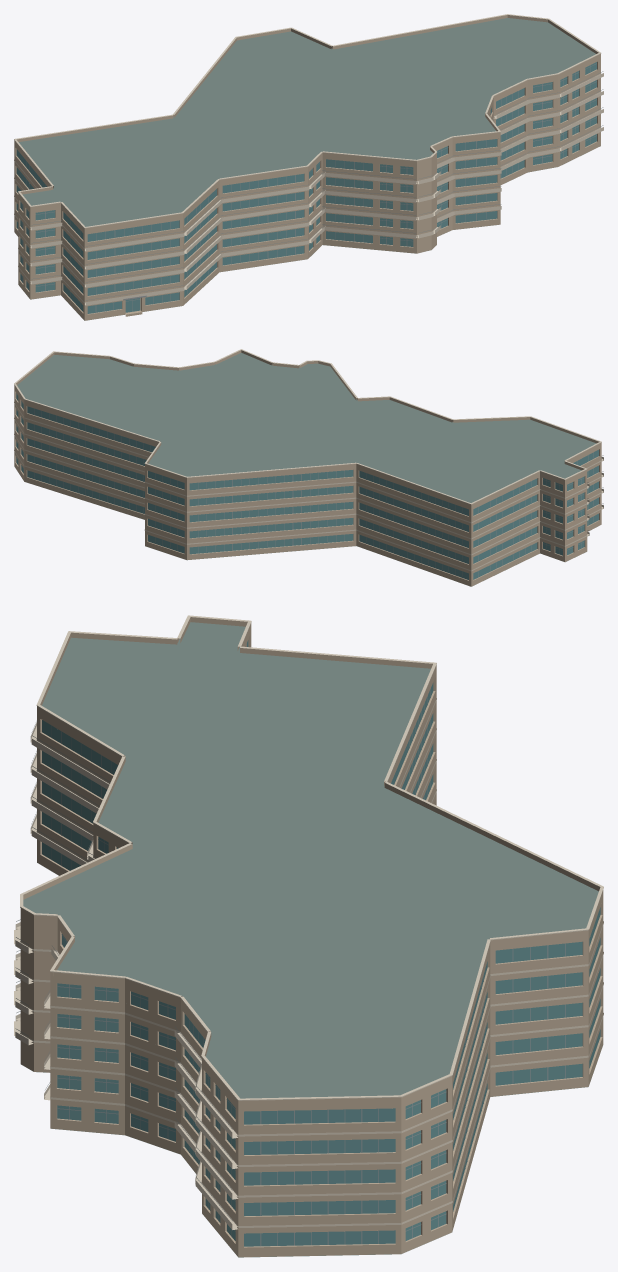
3 views of the same model, one above another, from view 1: azimuth 30°, elevation 25°; view 2: azimuth 150°, elevation 25°; view 3: azimuth 270°, elevation 25° (orthographic). The views are drawn at different scales.
Parts seen in each view (by area): view 1: student__roof, student__wall, student__glass, student__trim, student__frame, student__parapet; view 2: student__roof, student__wall, student__glass, student__trim, student__parapet, student__frame; view 3: student__roof, student__wall, student__glass, student__trim, student__parapet, student__frame.
Part boxes in pixels (box(x1,y1,x2,y2)): student__roof: box(18, 18, 600, 320); student__wall: box(14, 56, 600, 320); student__glass: box(16, 62, 596, 313); student__trim: box(14, 14, 603, 305); student__frame: box(20, 63, 603, 312); student__parapet: box(14, 15, 600, 230); student__roof: box(17, 353, 596, 586); student__wall: box(14, 387, 601, 586); student__glass: box(16, 393, 598, 579); student__trim: box(14, 349, 603, 571); student__parapet: box(14, 350, 601, 506); student__frame: box(16, 393, 603, 577); student__roof: box(21, 622, 598, 1257); student__wall: box(20, 626, 603, 1257); student__glass: box(42, 640, 600, 1246); student__trim: box(14, 615, 603, 1229); student__parapet: box(20, 617, 603, 1104); student__frame: box(15, 643, 565, 1246).
Size of the model in its own units: 123 by 19 by 63.1.
